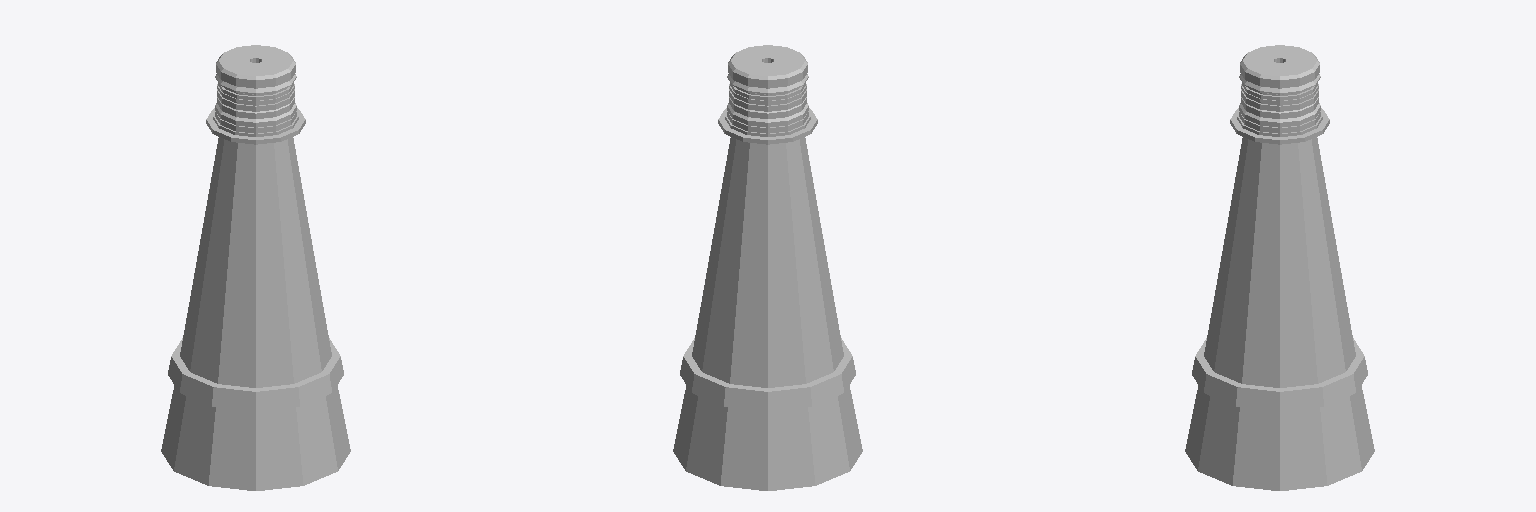
File: missile.obj
3 renders of one model, left to right at view 1: azimuth 30°, elevation 25°; view 2: azimuth 150°, elevation 25°; view 3: azimuth 270°, elevation 25°, orthographic.
Parts seen in each view (by area): view 1: Cylinder.008, Cylinder.005, Cylinder.006, Cylinder.007; view 2: Cylinder.008, Cylinder.005, Cylinder.006, Cylinder.007; view 3: Cylinder.008, Cylinder.005, Cylinder.006, Cylinder.007.
Boxes of the visible parts, x1,y1,x2,y2 form: Cylinder.008: [161, 137, 350, 490]; Cylinder.005: [215, 45, 296, 111]; Cylinder.006: [168, 338, 343, 411]; Cylinder.007: [206, 97, 305, 144]; Cylinder.008: [673, 137, 862, 490]; Cylinder.005: [727, 45, 808, 111]; Cylinder.006: [680, 338, 855, 411]; Cylinder.007: [718, 97, 817, 144]; Cylinder.008: [1185, 137, 1374, 490]; Cylinder.005: [1239, 45, 1320, 111]; Cylinder.006: [1192, 338, 1367, 411]; Cylinder.007: [1230, 97, 1329, 144].
Bounding box in the file's own units: 1.86 × 4.22 × 1.86.